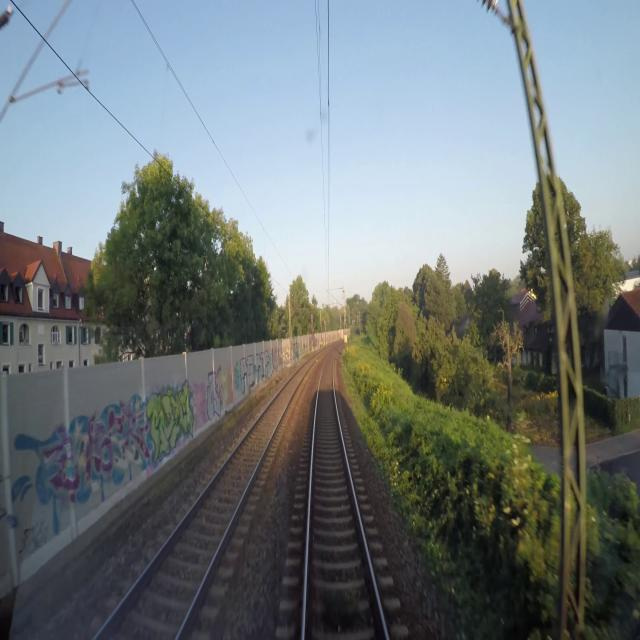rail-track: (98, 362, 310, 639), (306, 348, 385, 639)
